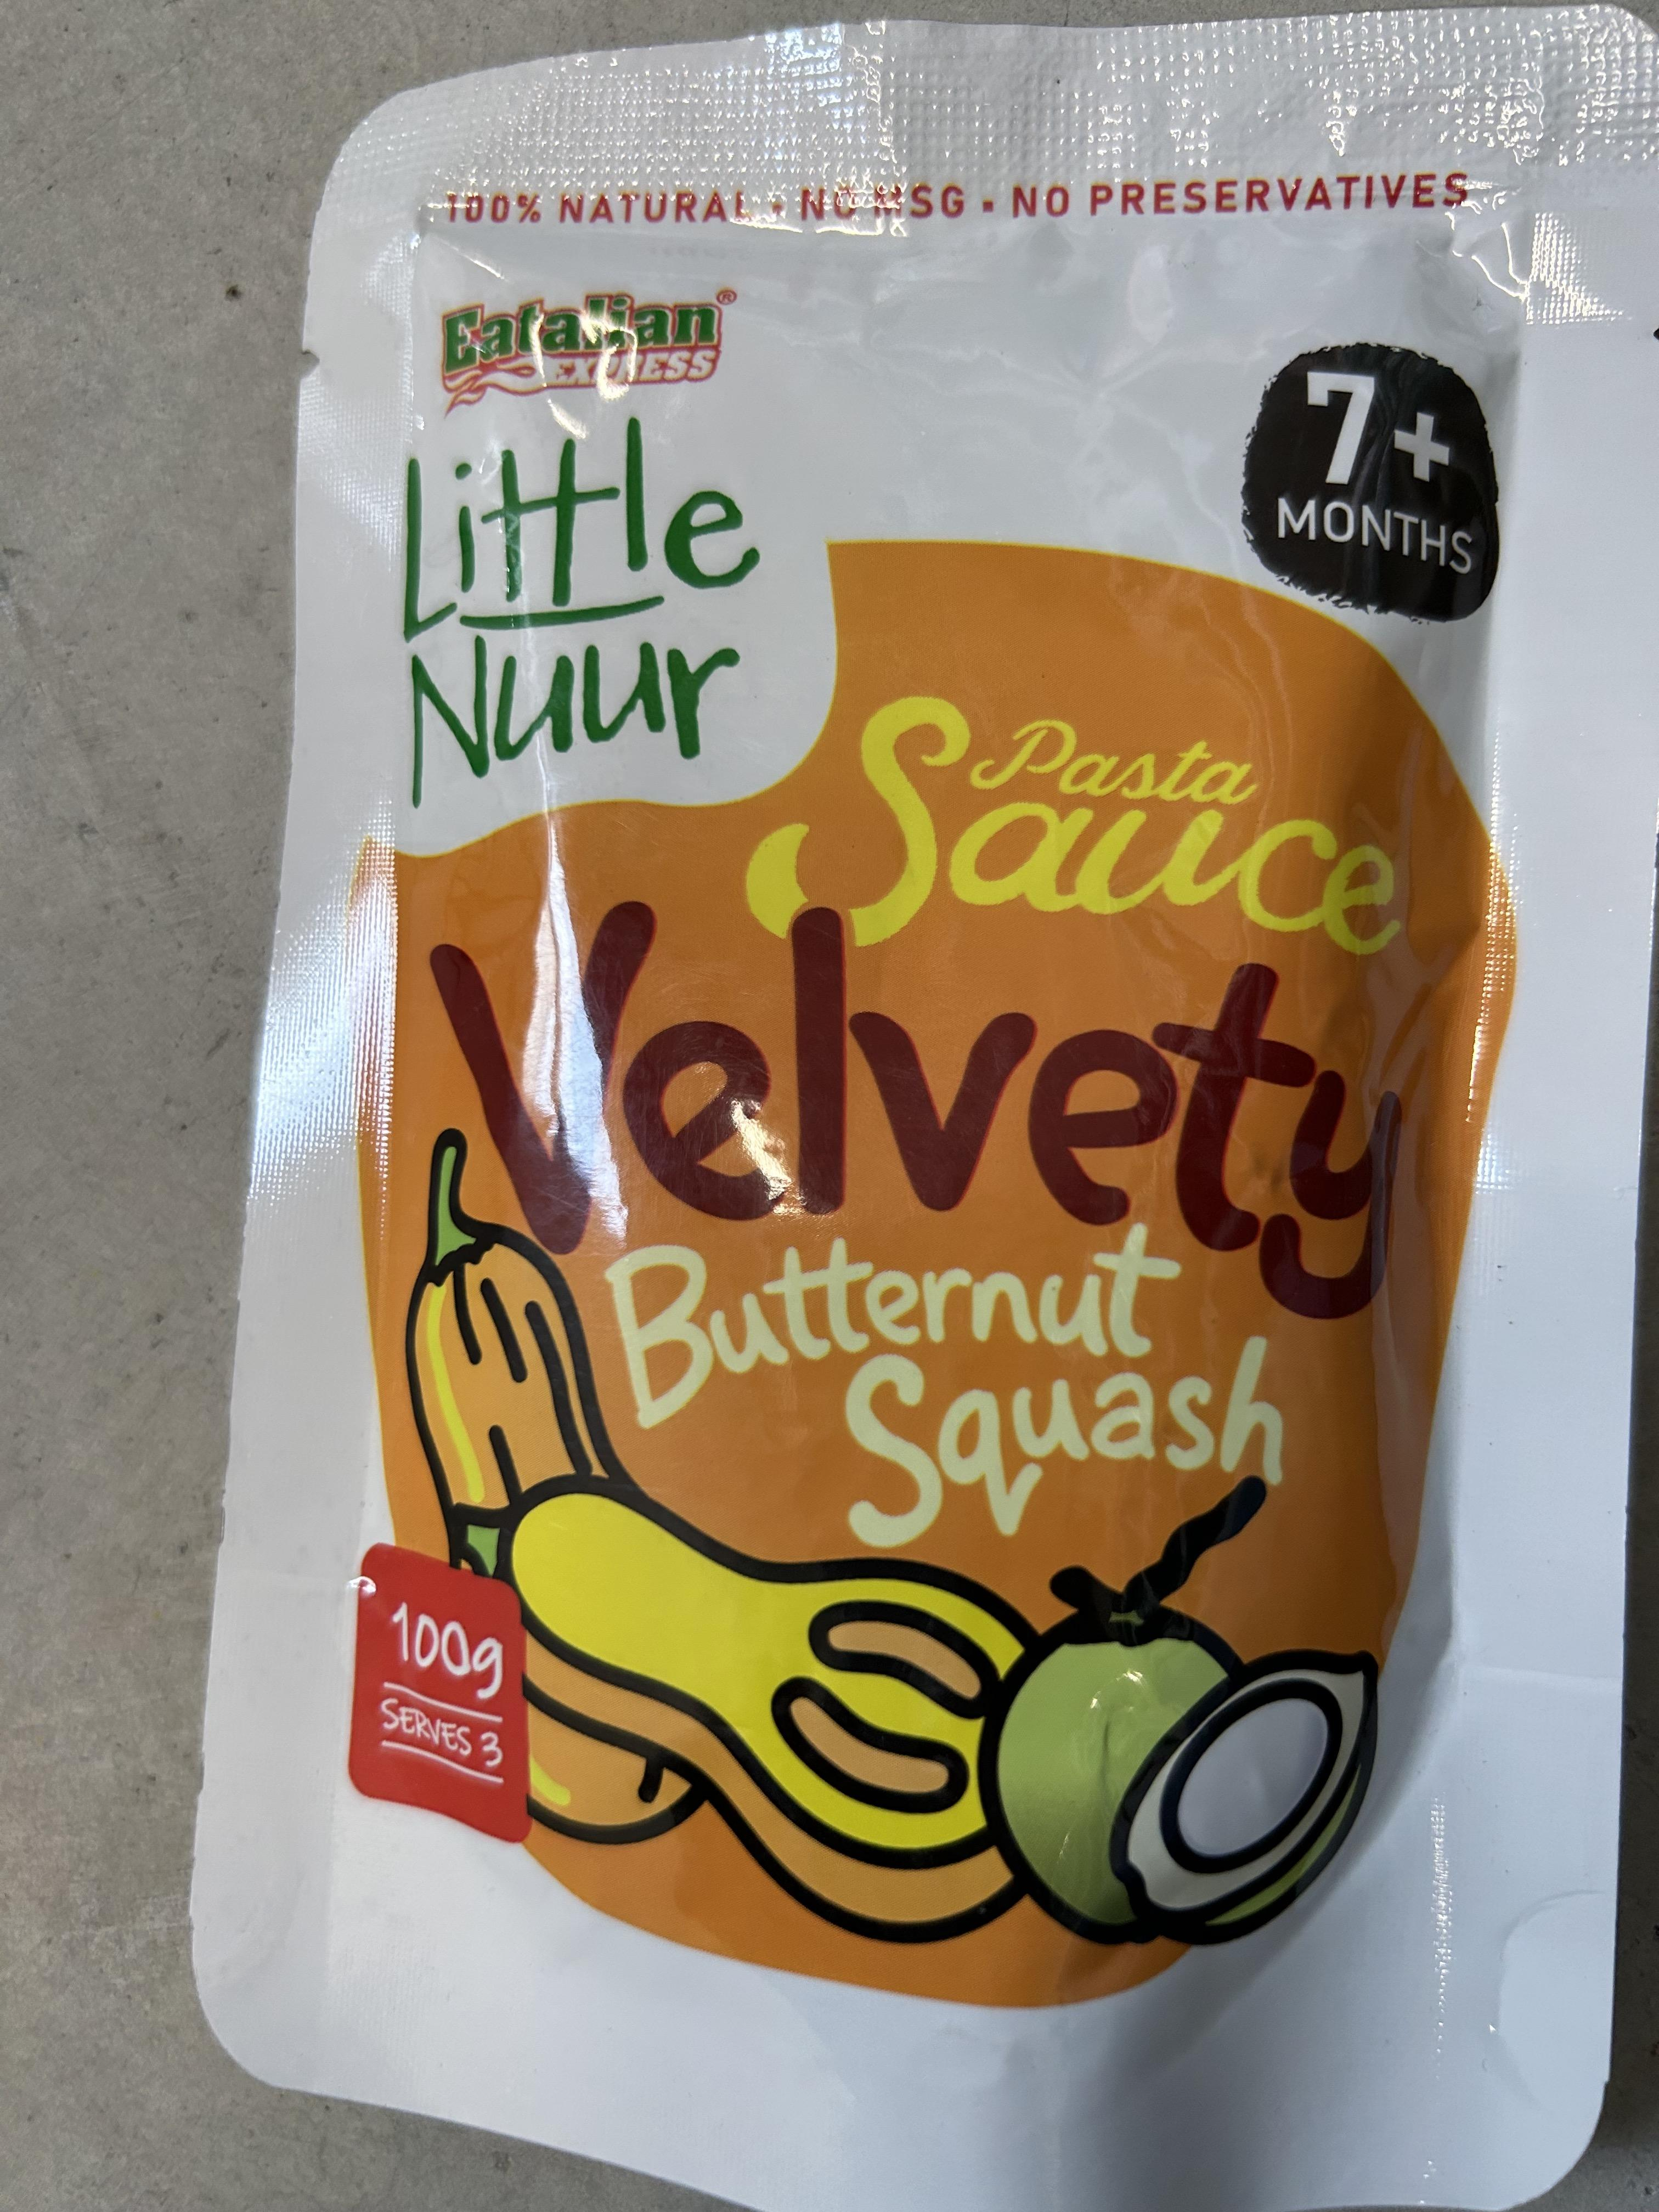object_name: (350, 143, 1567, 2148)
